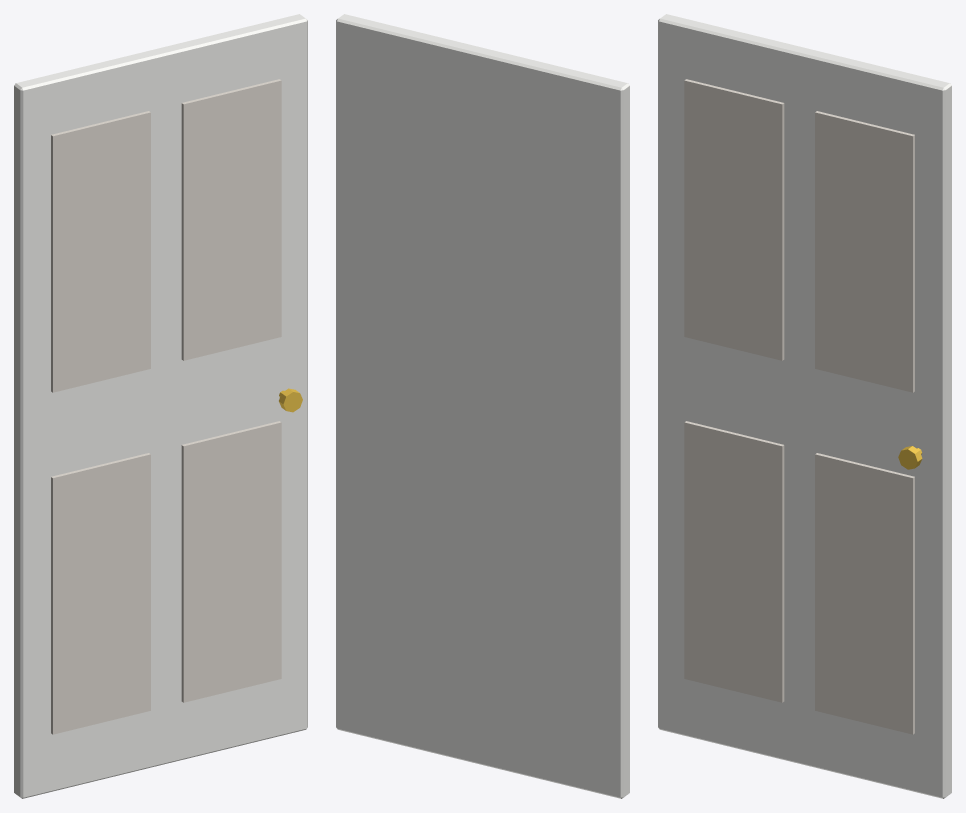
File: door_single.glb
The picture shows the model from 3 angles, left to right: view 1: azimuth 30°, elevation 25°; view 2: azimuth 150°, elevation 25°; view 3: azimuth 330°, elevation 25°; orthographic projection.
Parts seen in each view (by area): view 1: door_single; view 2: door_single; view 3: door_single.
Boxes of the visible parts, left/top/right/bottom form: door_single: left=14, top=14, right=307, bottom=798; door_single: left=336, top=14, right=629, bottom=798; door_single: left=658, top=14, right=951, bottom=798.
Size of the model in its own units: 0.88 by 2.08 by 0.1.
Materials: 1 (1 with a texture image).
